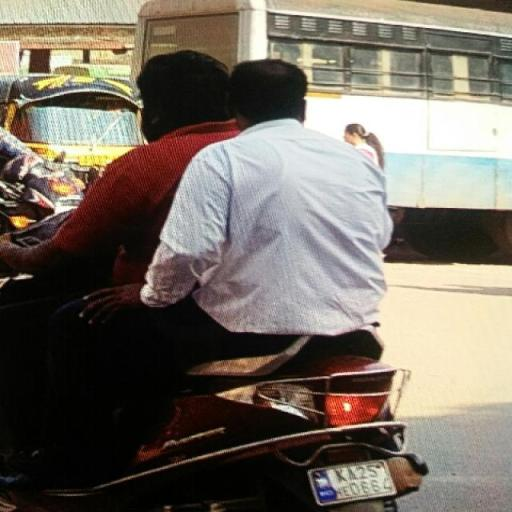bike: (4, 44, 430, 512)
numberplate: (308, 458, 399, 503)
withouthelmet: (140, 53, 229, 130), (232, 60, 306, 126)
